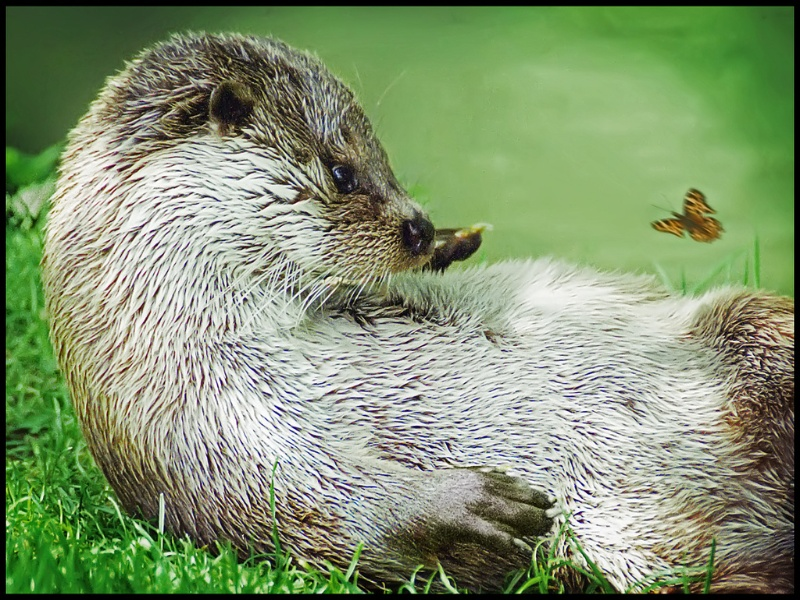minkish: (44, 26, 783, 581)
